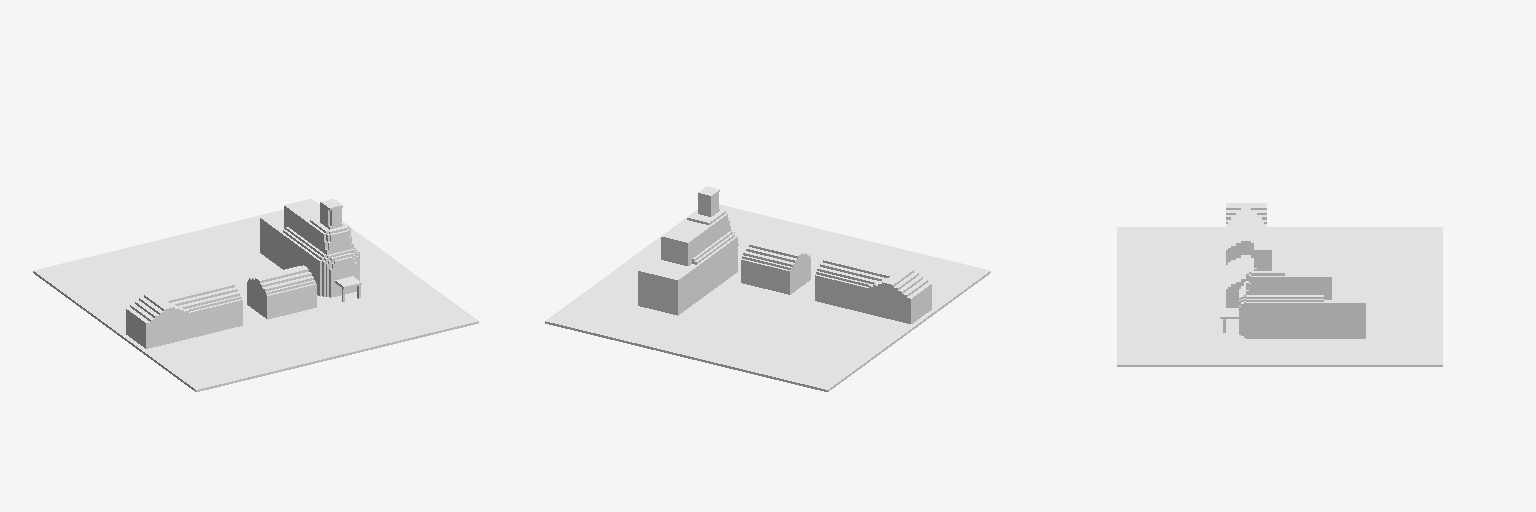
The model's file is town.obj.
3 views of the same model, side by side, from view 1: azimuth 30°, elevation 25°; view 2: azimuth 150°, elevation 25°; view 3: azimuth 270°, elevation 25° (orthographic).
Parts seen in each view (by area): view 1: Town; view 2: Town; view 3: Town.
Boxes of the visible parts, box(x1,y1,x2,y2) form: Town: box(33, 199, 478, 391); Town: box(545, 186, 990, 391); Town: box(1117, 203, 1442, 366).
Bounding box in the file's own units: 126 × 36 × 126.